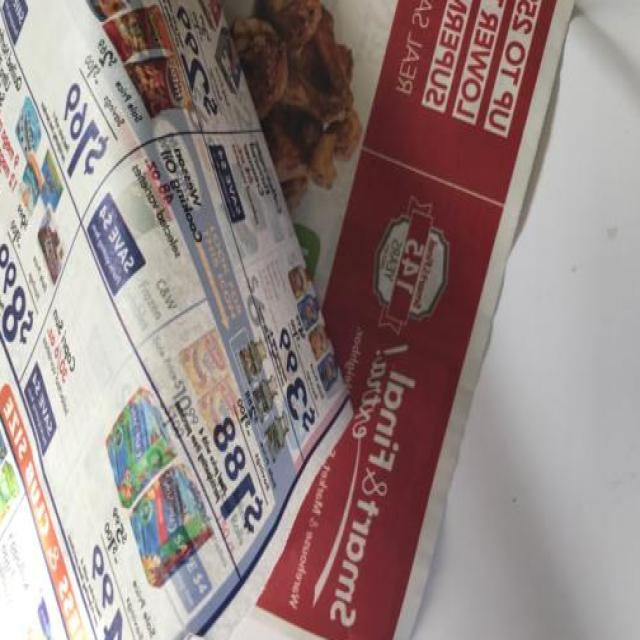kertas: (0, 0, 584, 640)
